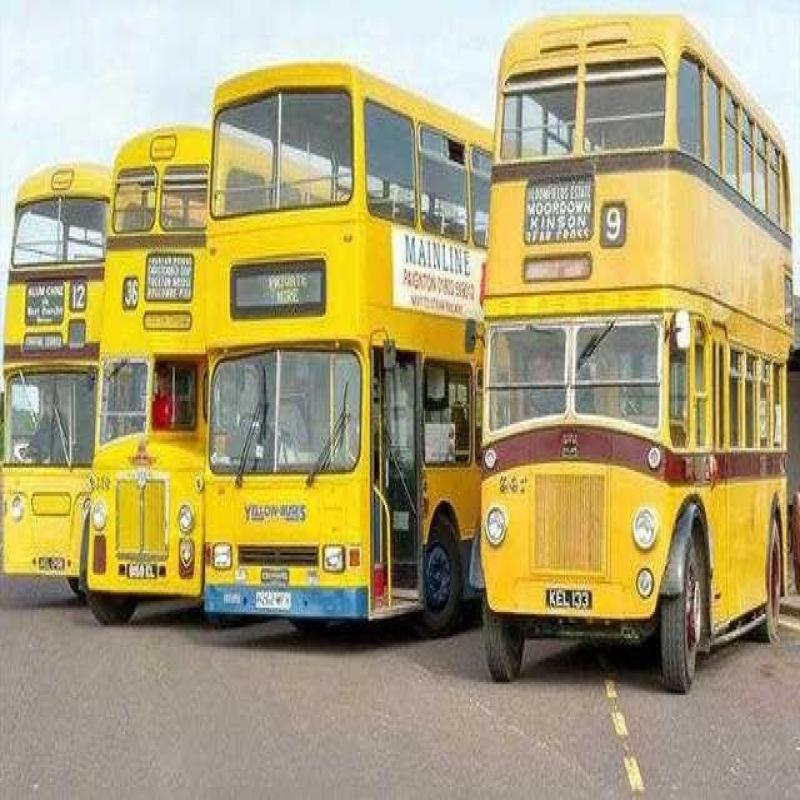bus: (455, 13, 778, 732), (214, 50, 456, 680), (107, 108, 237, 625), (4, 157, 105, 614)
